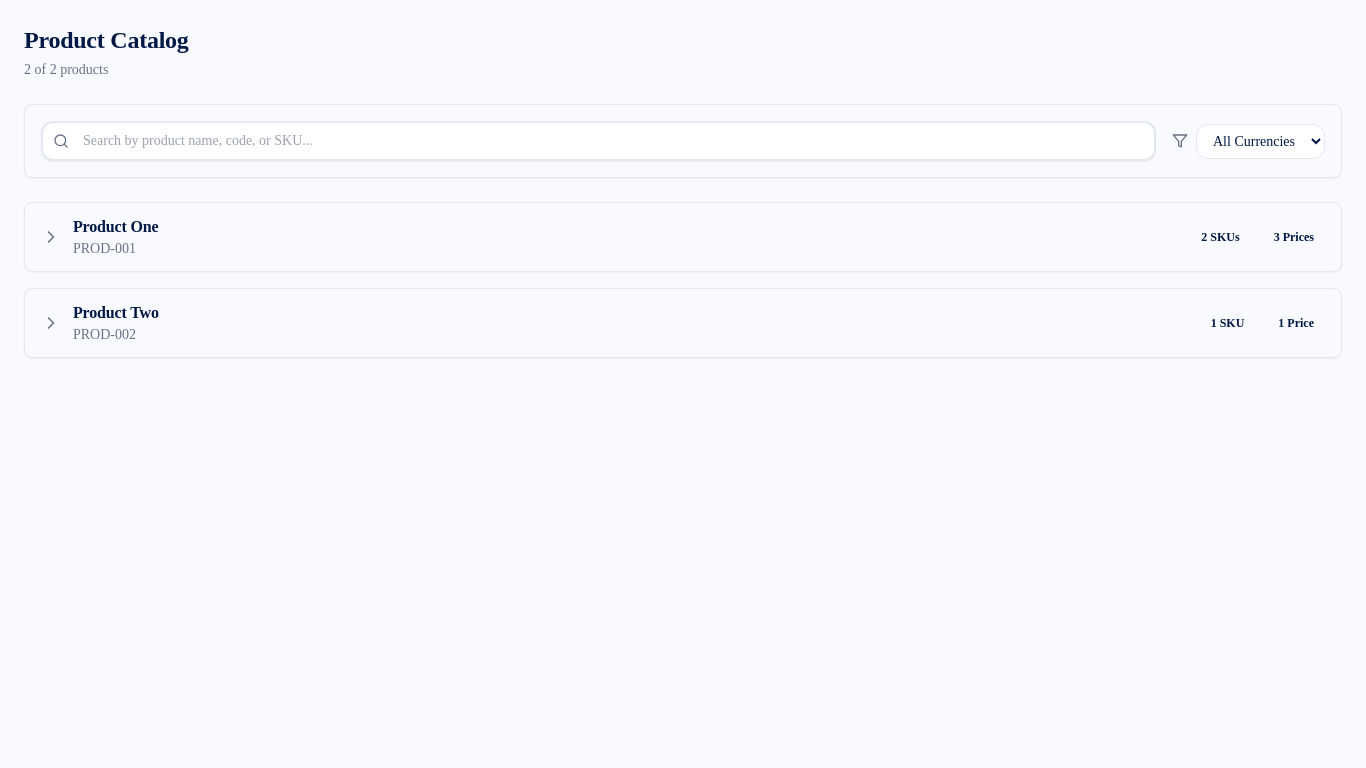
it: ProjectCatalog › should expand/collapse product details
The image size is (1366, 768).
Expected: the heading "Product One" is shown, [73,215,158,239]
Expected: the text "SKU-001" is not shown
Click the button "Product One PROD-001 2 SKUs 3 Prices".
click(116, 226)  # box [25,203,1341,271]
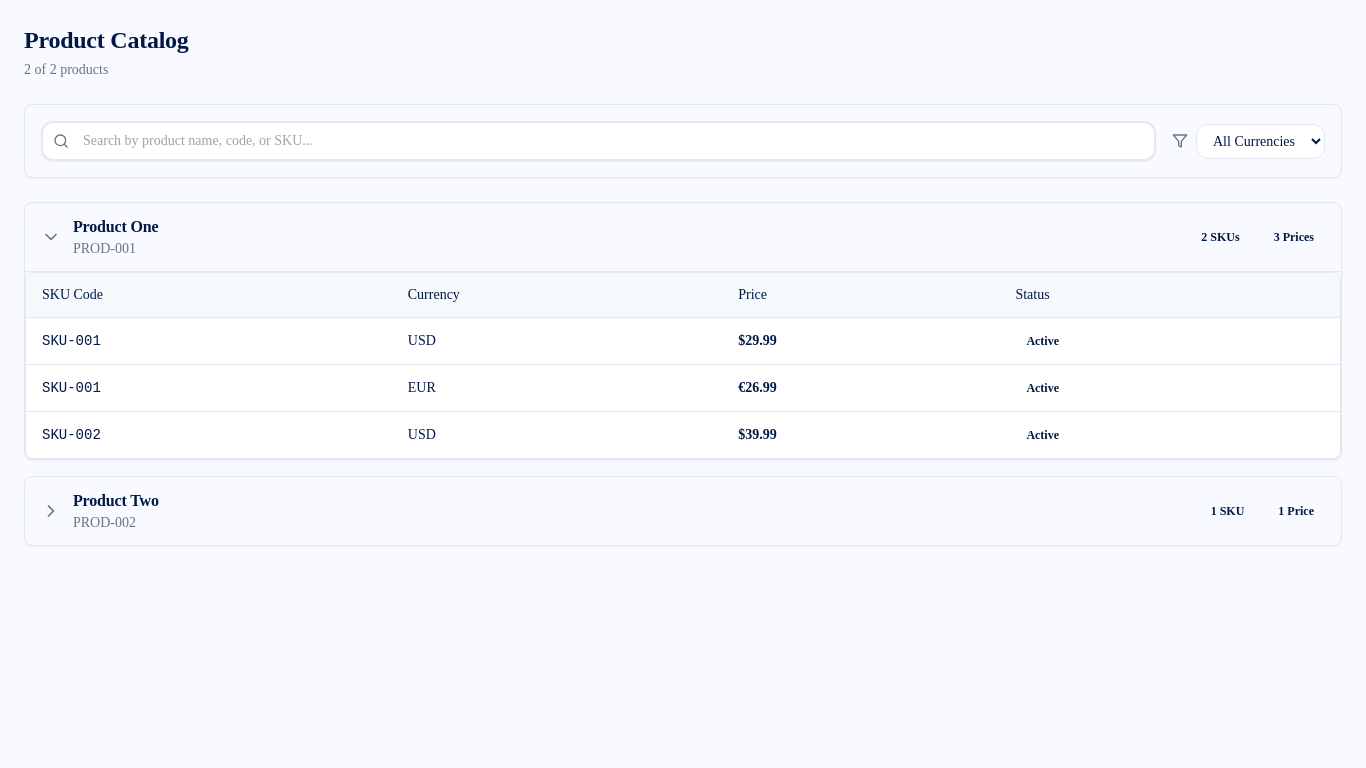
Now the text "SKU-001" in the row of "$29.99" is shown, box [42,333,101,349]
Now the text "SKU-002" is shown, box [26,412,392,458]
Click to collapse
Click the button "Product One PROD-001 2 SKUs 3 Prices".
click(116, 226)  # box [25,203,1341,271]
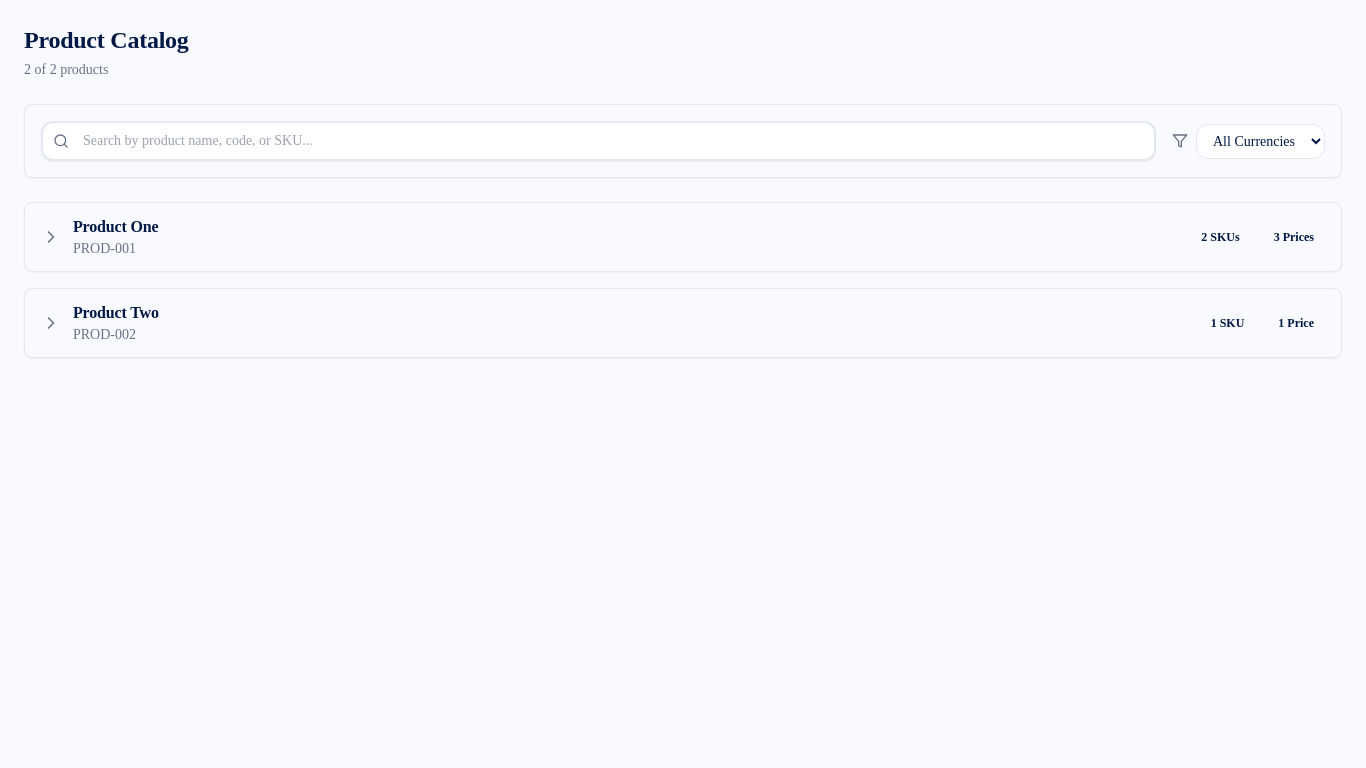
Now the text "SKU-001" is gone
